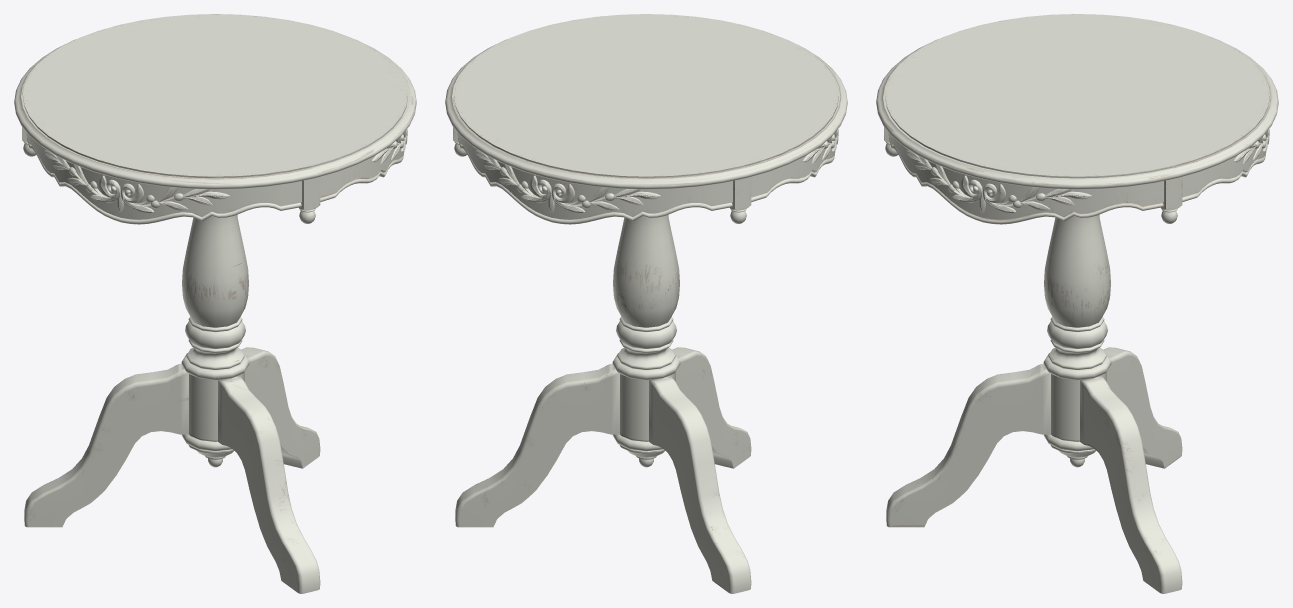
File: example176.glb
3 renders of one model, left to right at view 1: azimuth 30°, elevation 25°; view 2: azimuth 150°, elevation 25°; view 3: azimuth 270°, elevation 25°, orthographic.
Parts seen in each view (by area): view 1: PPTD.wood_PPTD.001; view 2: PPTD.wood_PPTD.001; view 3: PPTD.wood_PPTD.001.
Part boxes in pixels (bbox=[...]): PPTD.wood_PPTD.001: bbox=[14, 14, 416, 593]; PPTD.wood_PPTD.001: bbox=[445, 14, 847, 593]; PPTD.wood_PPTD.001: bbox=[876, 14, 1278, 593].
Size of the model in its own units: 0.8 by 0.9356 by 0.8.
1 material, 1 textured.
